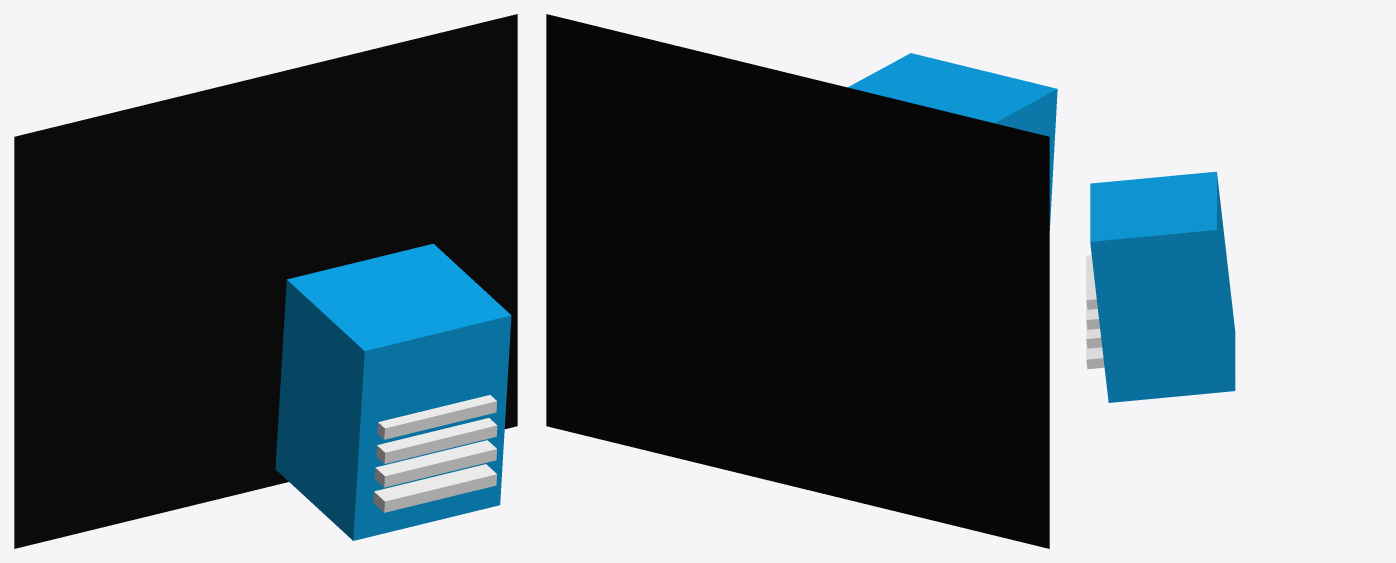
The picture shows the model from 3 angles, left to right: view 1: azimuth 30°, elevation 25°; view 2: azimuth 150°, elevation 25°; view 3: azimuth 270°, elevation 25°; orthographic projection. The views are drawn at different scales.
Parts seen in each view (by area): view 1: mesh_id1, mesh_id27, mesh_id54, mesh_id53, mesh_id47, mesh_id40; view 2: mesh_id1, mesh_id27; view 3: mesh_id27, mesh_id40, mesh_id54.
Boxes of the visible parts, x1=… form: mesh_id1: x1=14, y1=14, x2=517, y2=548; mesh_id27: x1=275, y1=243, x2=511, y2=540; mesh_id54: x1=373, y1=464, x2=496, y2=512; mesh_id53: x1=374, y1=440, x2=496, y2=487; mesh_id47: x1=376, y1=418, x2=497, y2=463; mesh_id40: x1=377, y1=395, x2=496, y2=439; mesh_id1: x1=546, y1=14, x2=1049, y2=548; mesh_id27: x1=848, y1=53, x2=1057, y2=230; mesh_id27: x1=1090, y1=171, x2=1235, y2=402; mesh_id40: x1=1086, y1=255, x2=1097, y2=309; mesh_id54: x1=1086, y1=341, x2=1104, y2=369.
Size of the model in its own units: 0.566 by 0.443 by 0.3537.
Materials: 3 (3 with a texture image).
